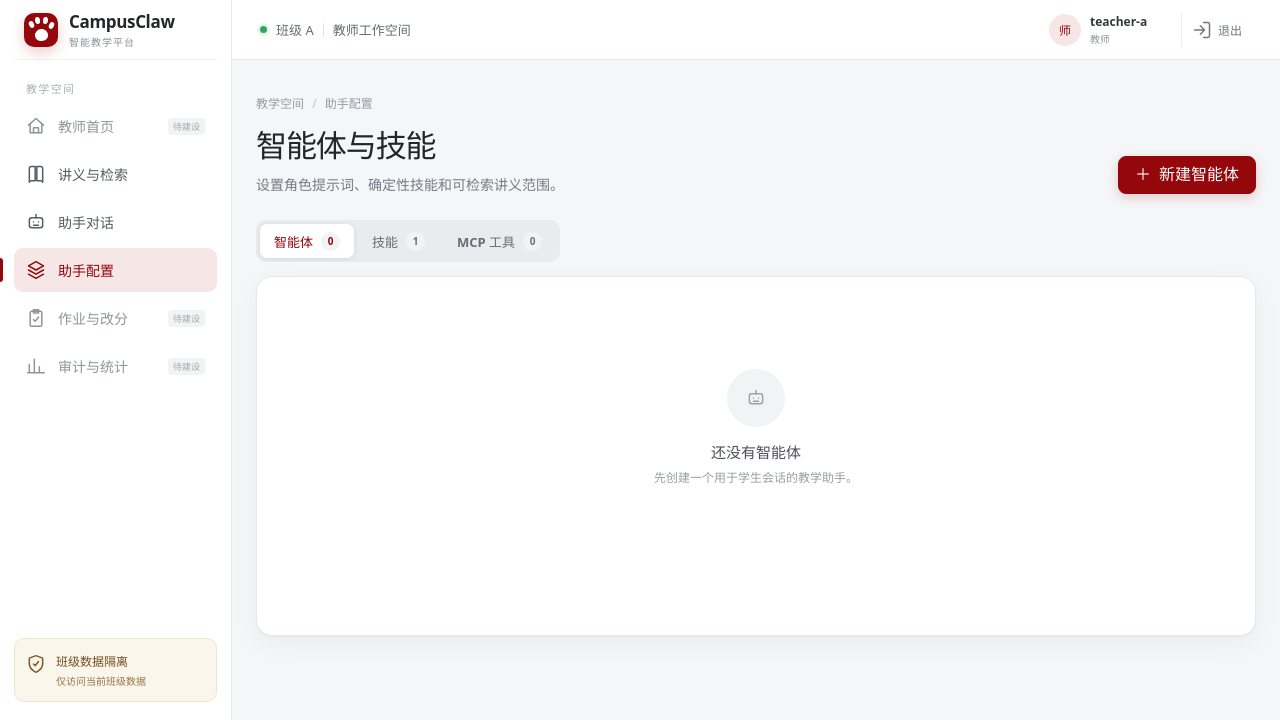
Test: AgentConfigView › toggles a skill with its complete existing configuration
Click the tab "技能 1".
click(398, 241)  # box [358,224,439,258]
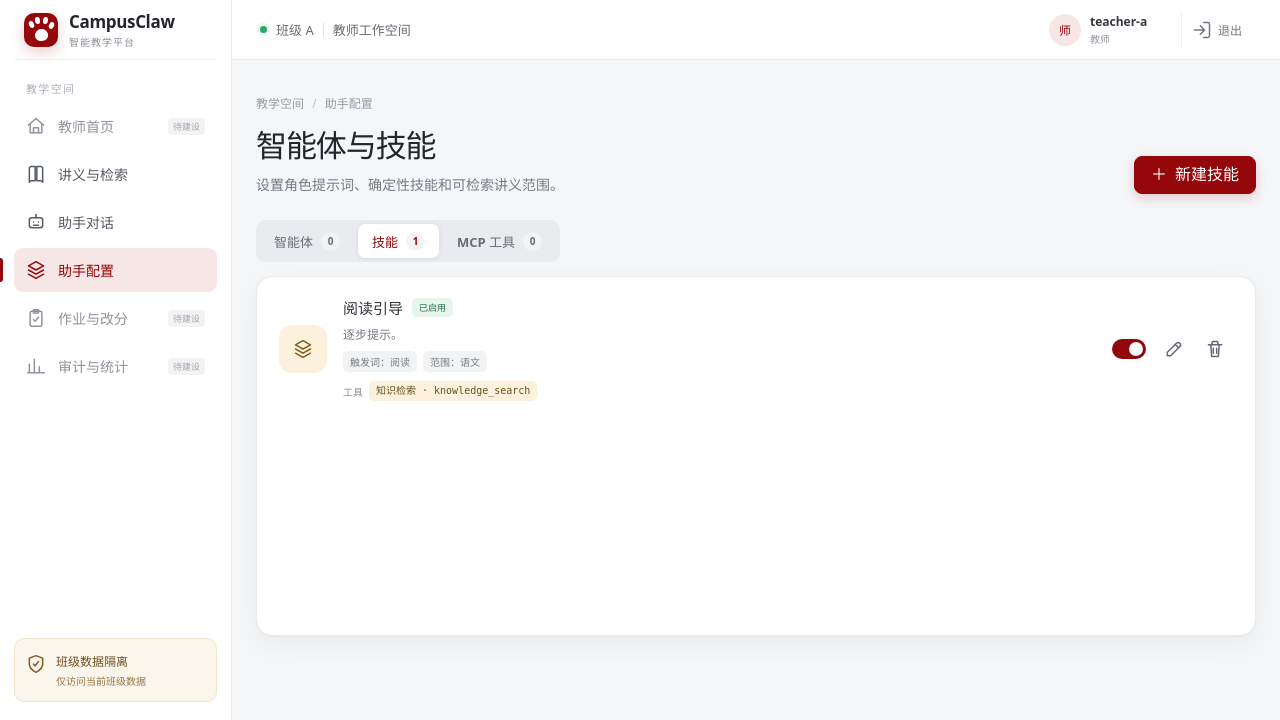
Click the checkbox named "停用技能 阅读引导".
click(1129, 349)  # box [1112,339,1146,359]
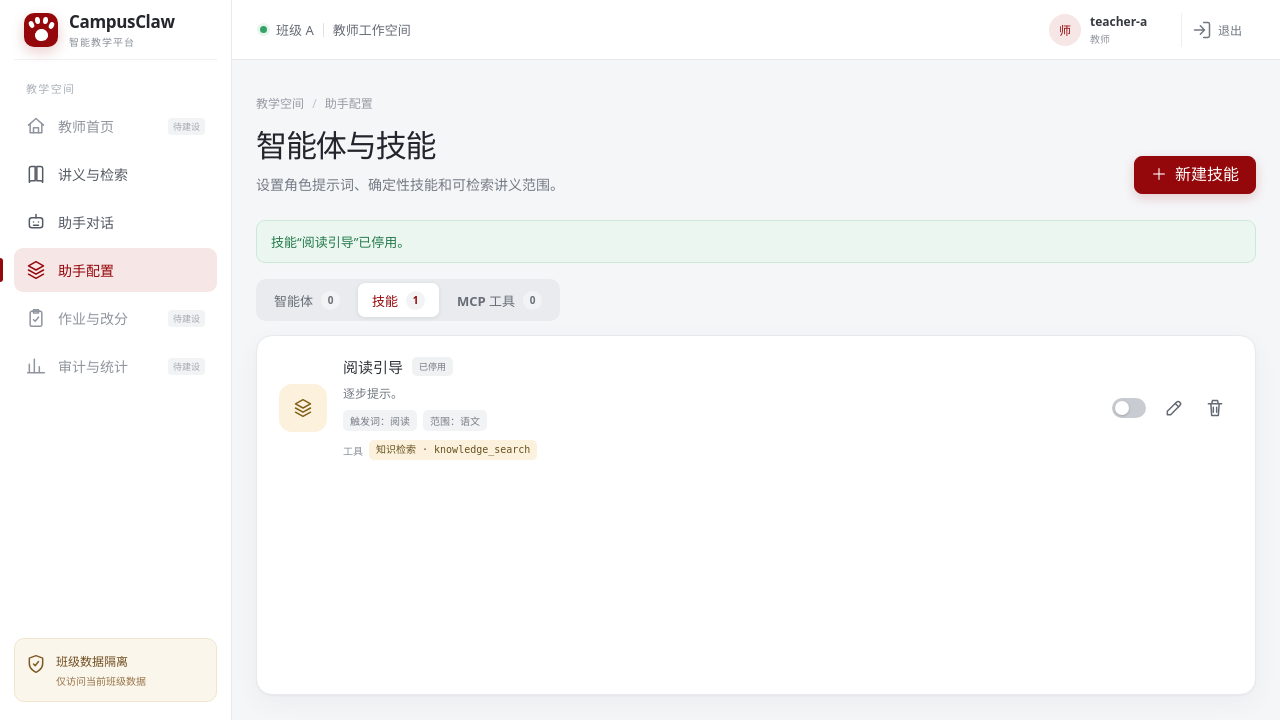
Expected: the text "已停用" is shown, [271,233,410,251]
